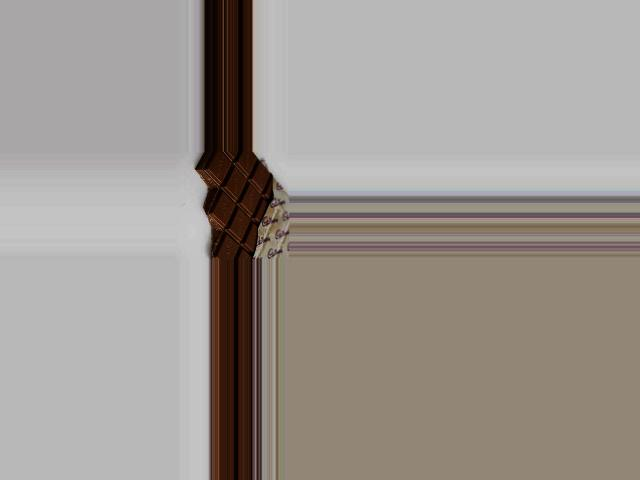chocolate: (203, 152, 288, 259)
